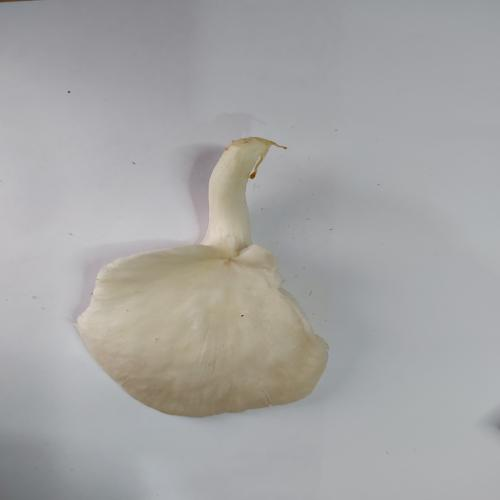Oyster Mushroom: (74, 135, 331, 418)
